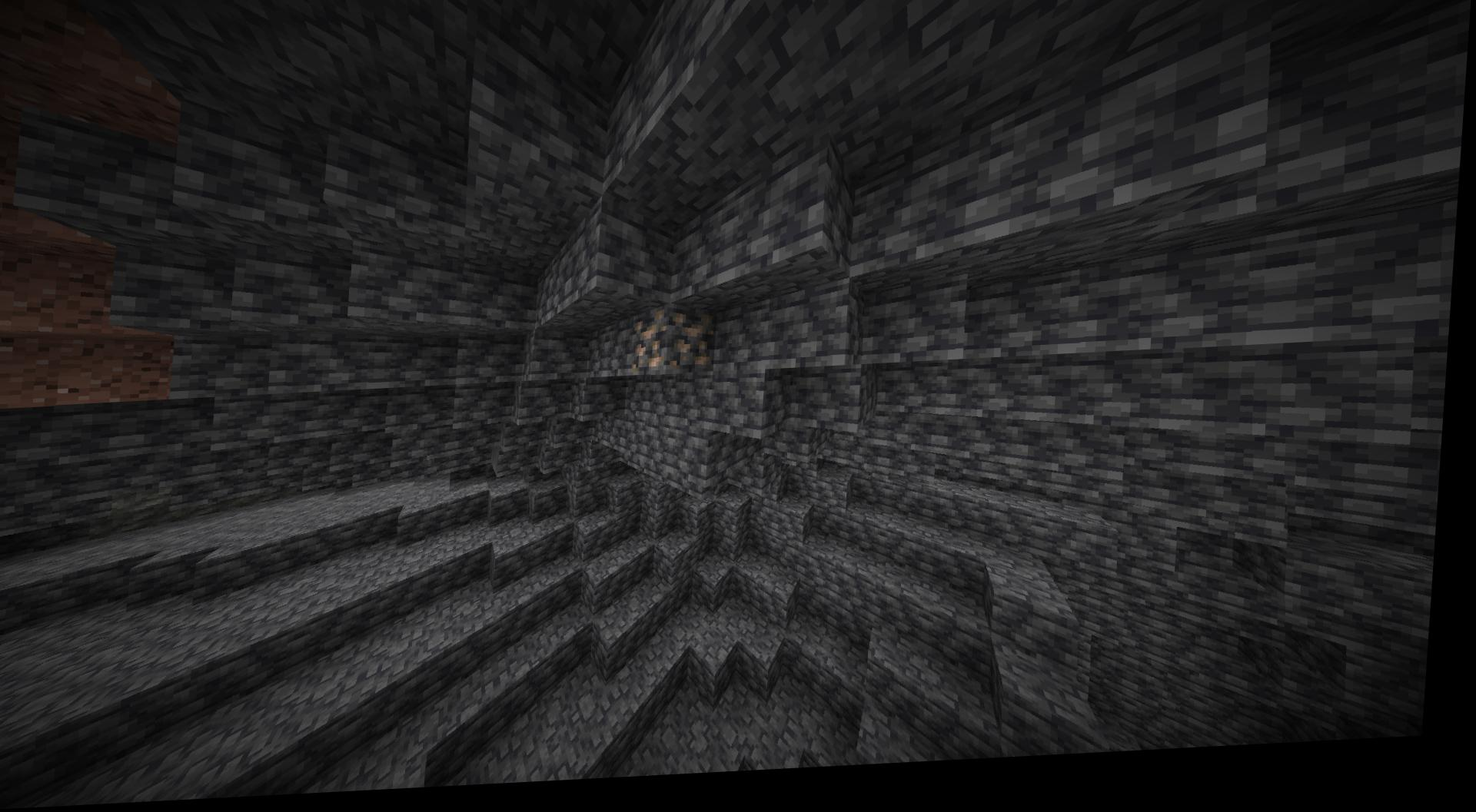iron ore: (673, 309, 721, 379), (626, 313, 673, 383)
